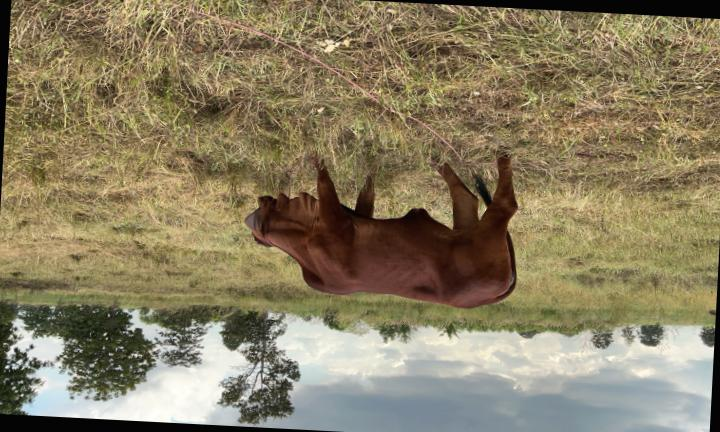Brahman: (245, 157, 517, 308)
